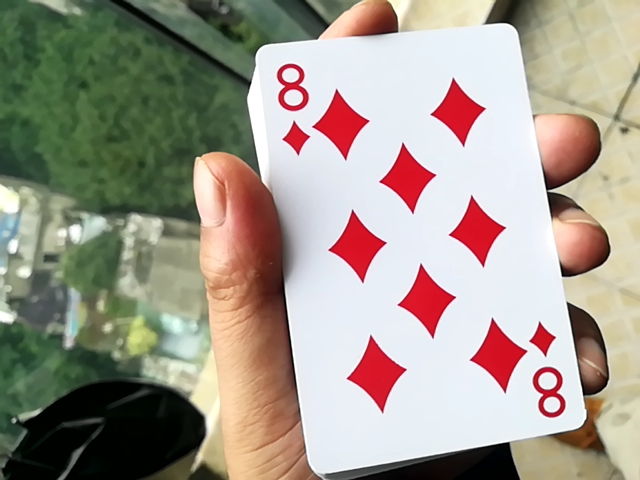fk 8: (235, 21, 578, 470)
